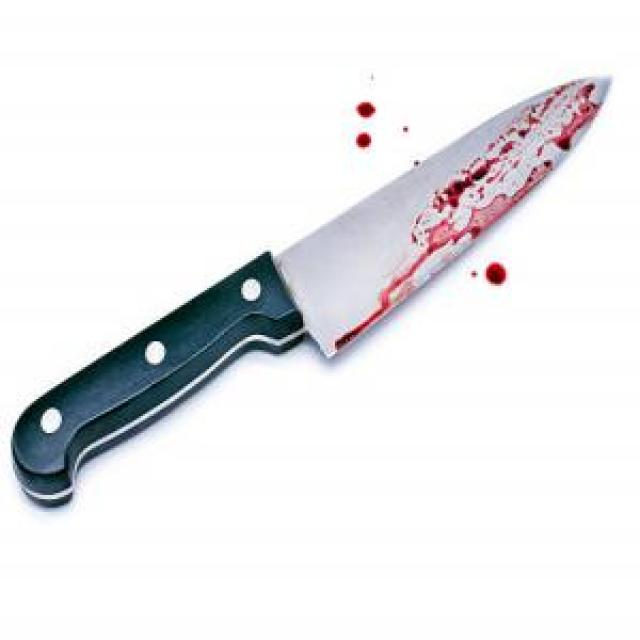knife: (8, 66, 614, 511)
